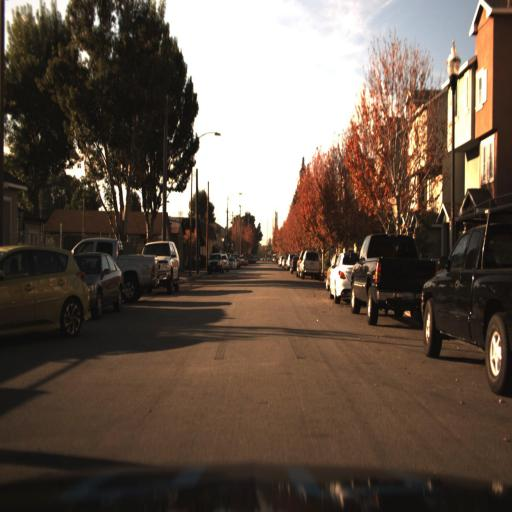car: (417, 218, 512, 402), (0, 239, 88, 350), (350, 230, 446, 326), (348, 224, 427, 334), (106, 238, 160, 306), (82, 244, 128, 323), (75, 252, 126, 309), (118, 239, 158, 311), (326, 248, 360, 310), (326, 242, 356, 306), (155, 236, 187, 290), (154, 238, 180, 291), (298, 248, 324, 284), (298, 249, 323, 282), (205, 251, 224, 276)
